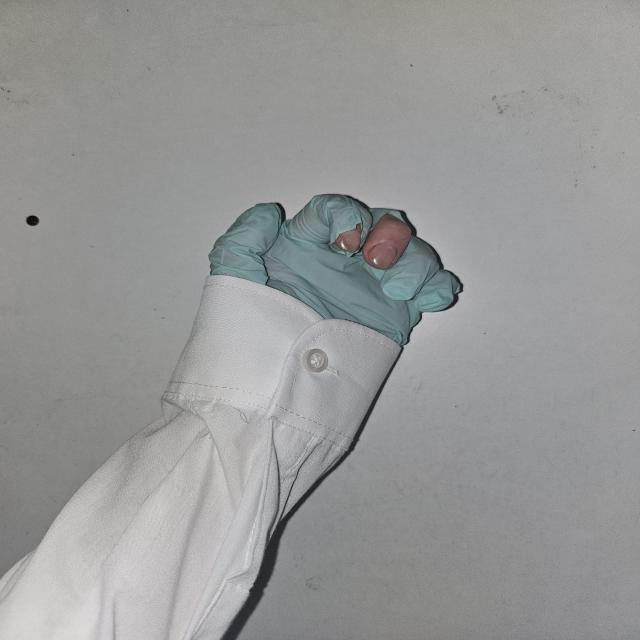gloves_damaged: (202, 193, 463, 346)
